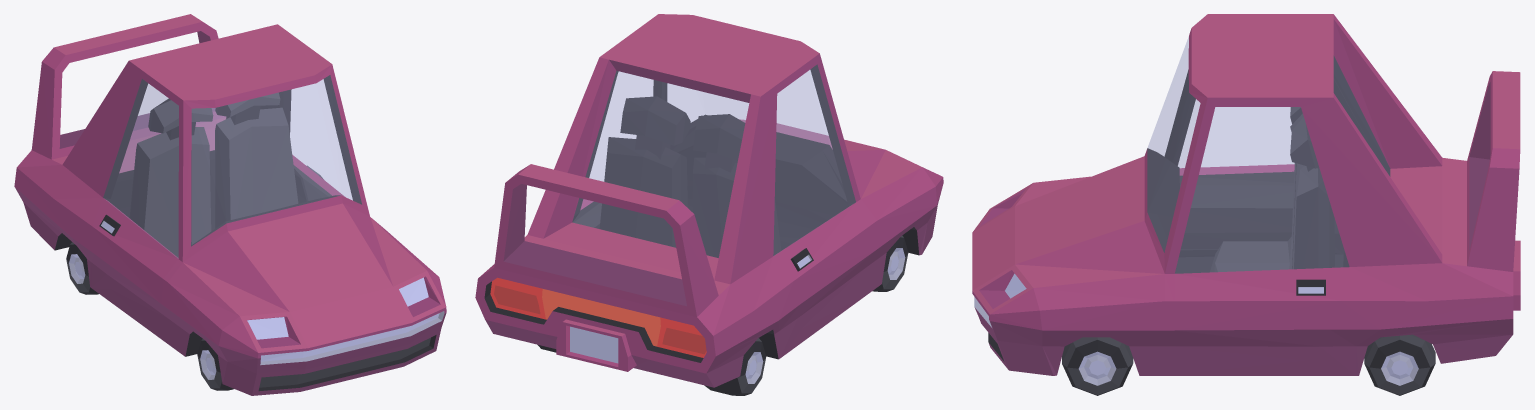
File: chic-pink-hatchback-delight.glb
3 views of the same model, side by side, from view 1: azimuth 30°, elevation 25°; view 2: azimuth 150°, elevation 25°; view 3: azimuth 270°, elevation 25° (orthographic). The views are drawn at different scales.
Visible parts, largest first — view 1: Car03_2, Car03_2_AdF, Car03_2_DR, Car03_2_AdB, Car03_2_DL, Car03_2_WhFR, Car03_2_WhBR; view 2: Car03_2, Car03_2_DR, Car03_2_AdB, Car03_2_DL, Car03_2_WhBR, Car03_2_WhFR, Car03_2_AdF; view 3: Car03_2, Car03_2_DL, Car03_2_DR, Car03_2_AdB, Car03_2_AdF, Car03_2_WhBL, Car03_2_WhFL.
Part boxes in pixels (left/top/right/bottom): Car03_2: left=14, top=24, right=438, bottom=383; Car03_2_AdF: left=218, top=270, right=446, bottom=395; Car03_2_DR: left=92, top=79, right=178, bottom=331; Car03_2_AdB: left=31, top=14, right=225, bottom=159; Car03_2_DL: left=290, top=80, right=352, bottom=200; Car03_2_WhFR: left=197, top=339, right=233, bottom=390; Car03_2_WhBR: left=66, top=242, right=98, bottom=294; Car03_2: left=475, top=14, right=936, bottom=387; Car03_2_DR: left=773, top=65, right=874, bottom=327; Car03_2_AdB: left=494, top=164, right=718, bottom=316; Car03_2_DL: left=573, top=72, right=652, bottom=228; Car03_2_WhBR: left=704, top=338, right=766, bottom=395; Car03_2_WhFR: left=872, top=235, right=908, bottom=291; Car03_2_AdF: left=922, top=167, right=943, bottom=253; Car03_2: left=1015, top=14, right=1520, bottom=375; Car03_2_DL: left=1174, top=107, right=1349, bottom=360; Car03_2_DR: left=1178, top=100, right=1294, bottom=248; Car03_2_AdB: left=1467, top=71, right=1520, bottom=271; Car03_2_AdF: left=972, top=183, right=1053, bottom=375; Car03_2_WhBL: left=1364, top=334, right=1435, bottom=395; Car03_2_WhFL: left=1062, top=337, right=1133, bottom=395.
Size of the model in its own units: 2.73 by 2.96 by 5.06.
3 materials, 3 textured.
